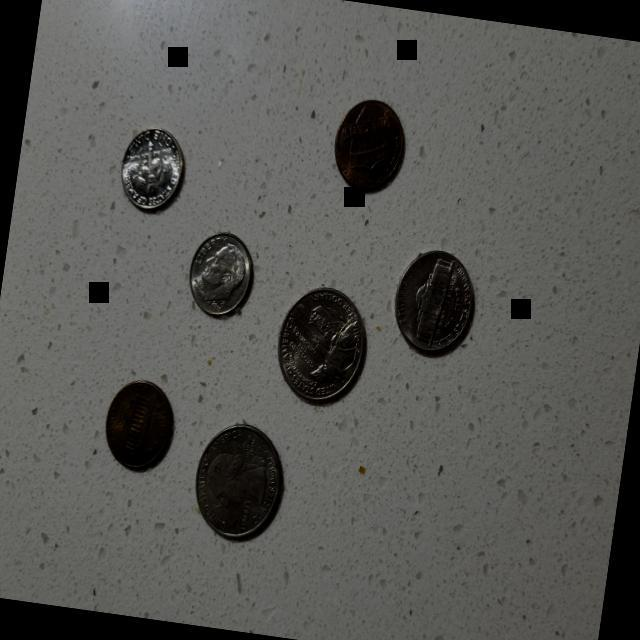Dime: (104, 124, 200, 227), (180, 226, 258, 326)
Nickel: (375, 228, 493, 375)
Penny: (317, 89, 418, 211), (94, 374, 188, 492)
Quarter: (267, 278, 378, 428), (185, 414, 298, 552)
